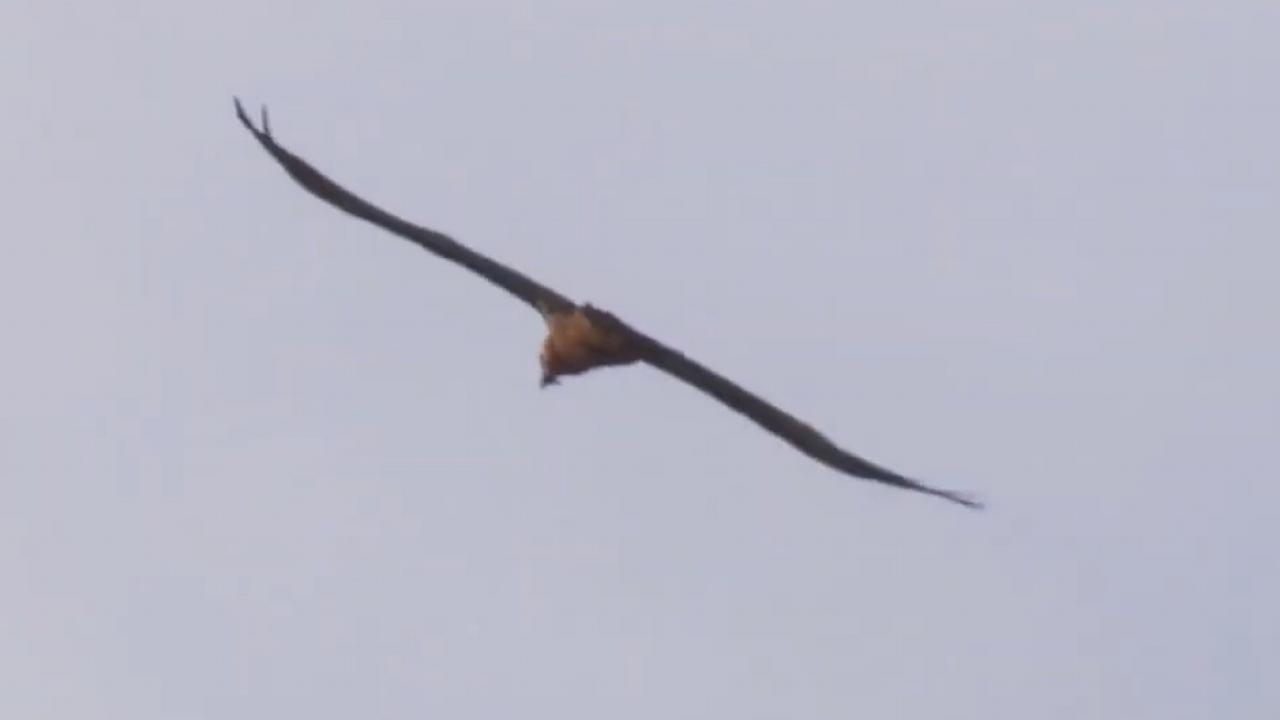Bird: (218, 88, 996, 524)
